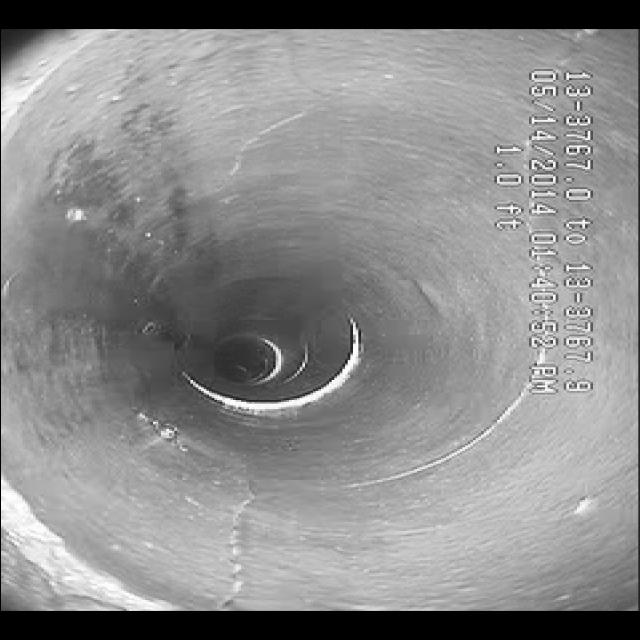Crack: (210, 480, 276, 604)
